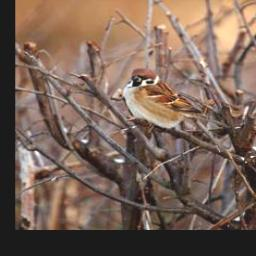Sparrow: (118, 66, 233, 134)
